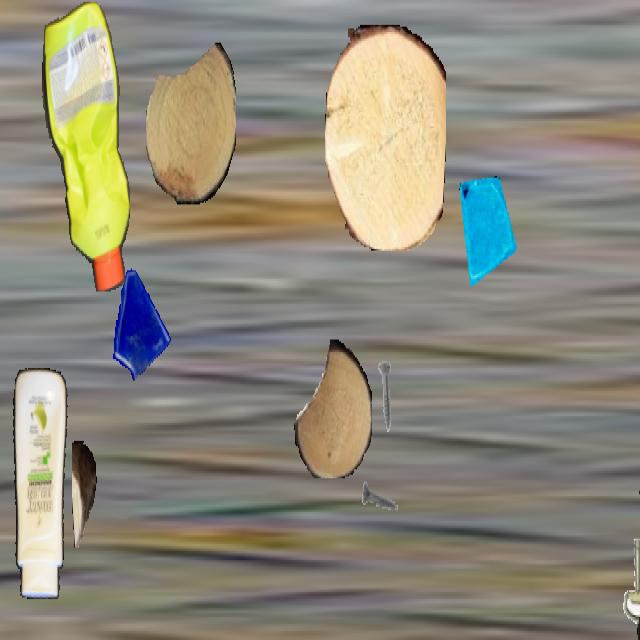glass: (107, 263, 173, 381), (456, 176, 520, 290)
metal: (365, 359, 407, 434), (361, 459, 403, 533), (613, 532, 640, 631)
plastic: (41, 2, 131, 290), (6, 368, 70, 599), (627, 336, 640, 638)
wood: (325, 25, 445, 249), (146, 41, 236, 204), (294, 340, 372, 478), (72, 441, 96, 547)
